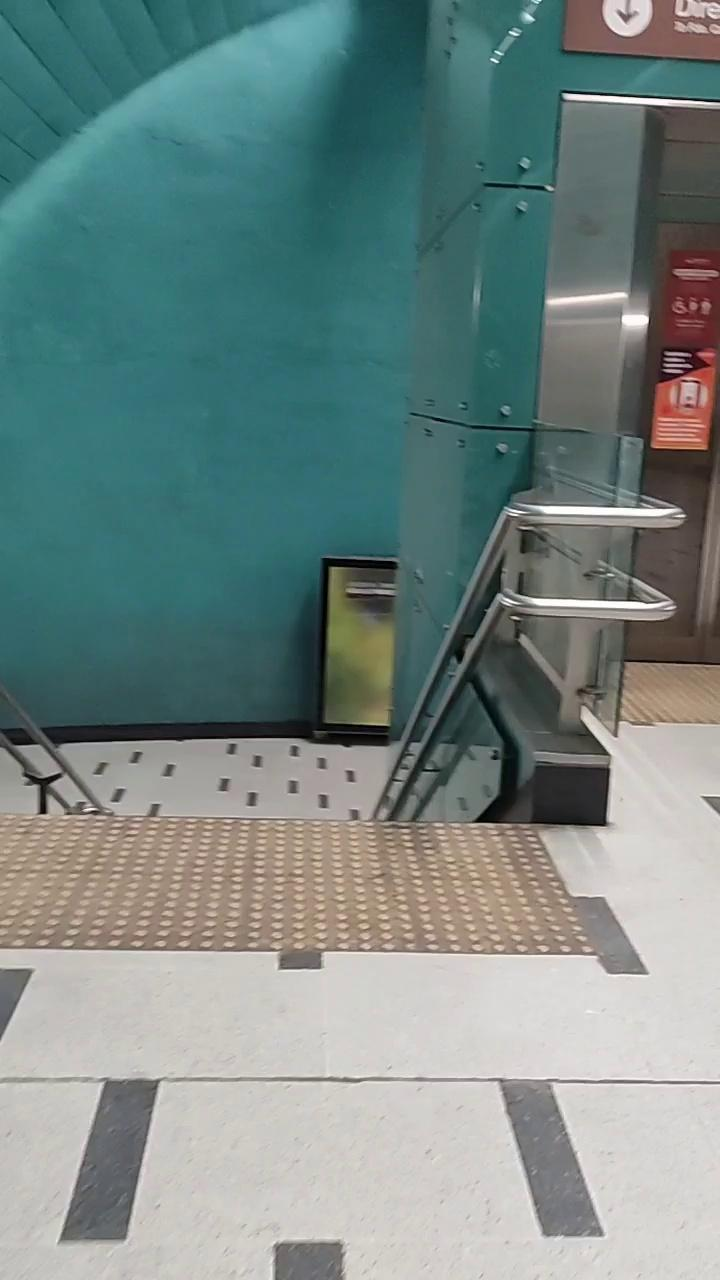down arrow: (602, 0, 659, 42)
